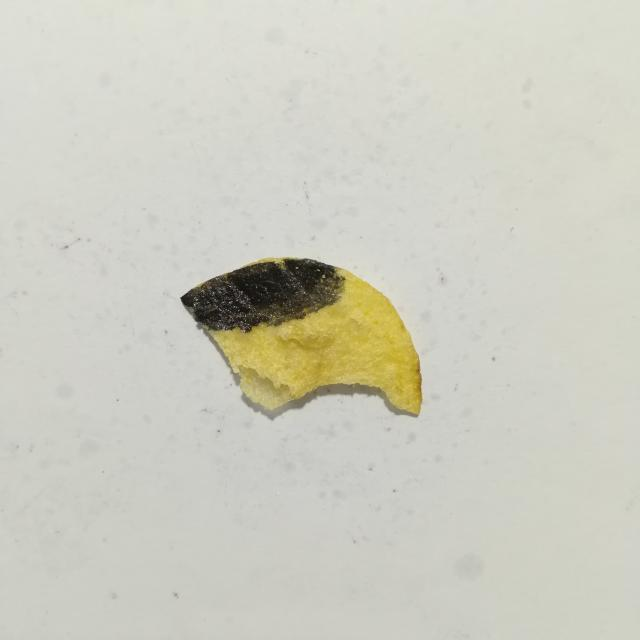chip: (181, 258, 422, 415)
damaged: (181, 258, 345, 332)
